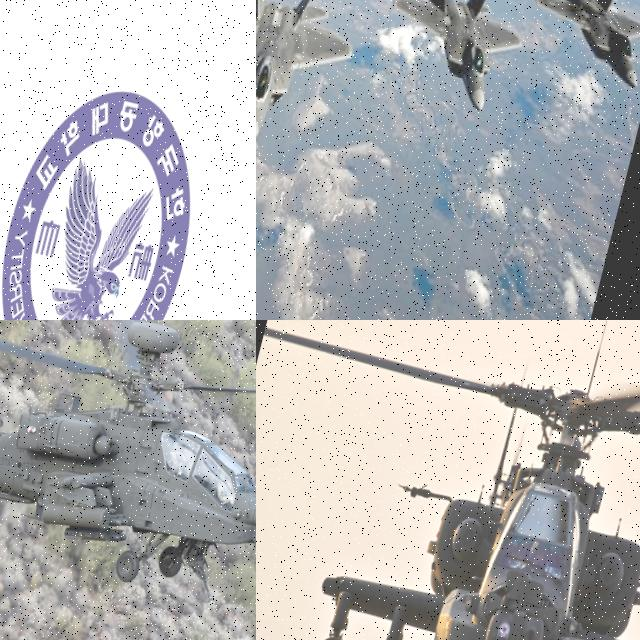Apache: (256, 320, 640, 640), (0, 320, 256, 630)
F22: (374, 0, 537, 123), (256, 0, 375, 165), (512, 0, 640, 105)
KAU_Marker: (0, 72, 217, 320)
